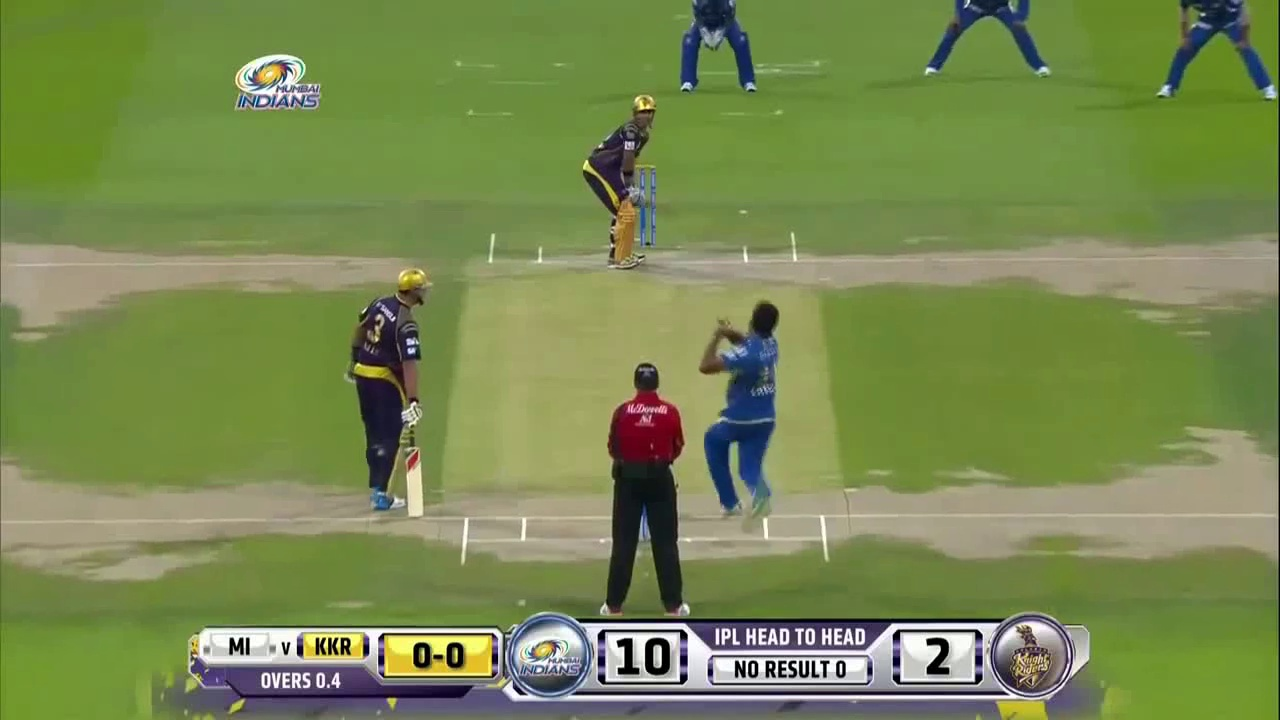bat: (404, 430, 423, 518)
